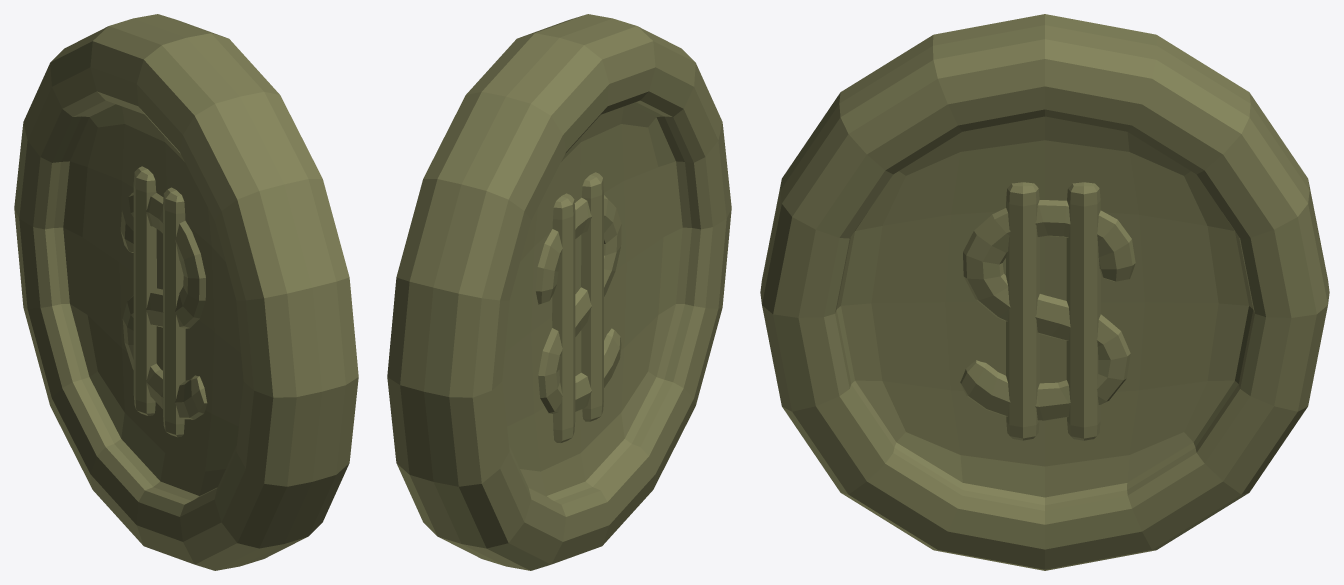
Rendered from Coin.glb.
The picture shows the model from 3 angles, left to right: view 1: azimuth 30°, elevation 25°; view 2: azimuth 150°, elevation 25°; view 3: azimuth 270°, elevation 25°; orthographic projection. The views are drawn at different scales.
Visible parts, largest first — view 1: Coin; view 2: Coin; view 3: Coin.
Part boxes in pixels (x1,y1,x2,y2): Coin: (14, 14, 358, 570); Coin: (387, 14, 731, 570); Coin: (760, 14, 1329, 570).
Size of the model in its own units: 0.5237 by 2.56 by 2.47.
